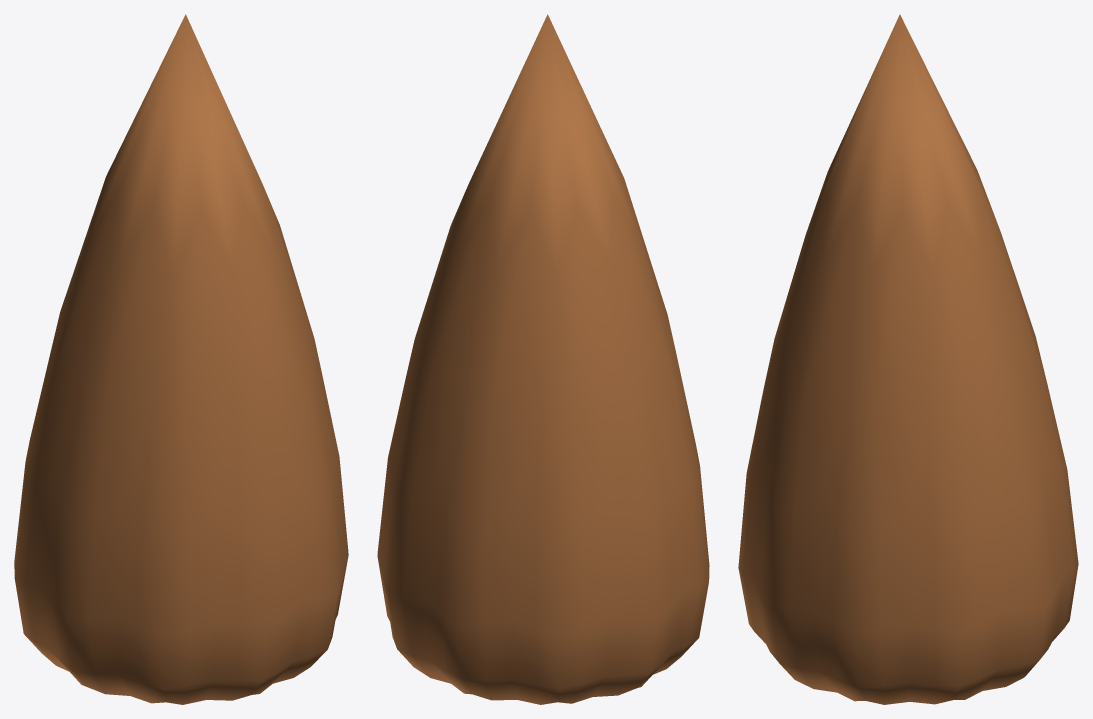
Rendered from flowerseeds.fbx.
The picture shows the model from 3 angles, left to right: view 1: azimuth 30°, elevation 25°; view 2: azimuth 150°, elevation 25°; view 3: azimuth 270°, elevation 25°; orthographic projection.
Parts seen in each view (by area): view 1: pCylinder4; view 2: pCylinder4; view 3: pCylinder4.
Part boxes in pixels (box(x1,y1,x2,y2)): pCylinder4: box(14, 14, 348, 704); pCylinder4: box(377, 14, 709, 704); pCylinder4: box(738, 14, 1078, 704).
Bounding box in the file's own units: 0.4185 × 0.9066 × 0.4318.
